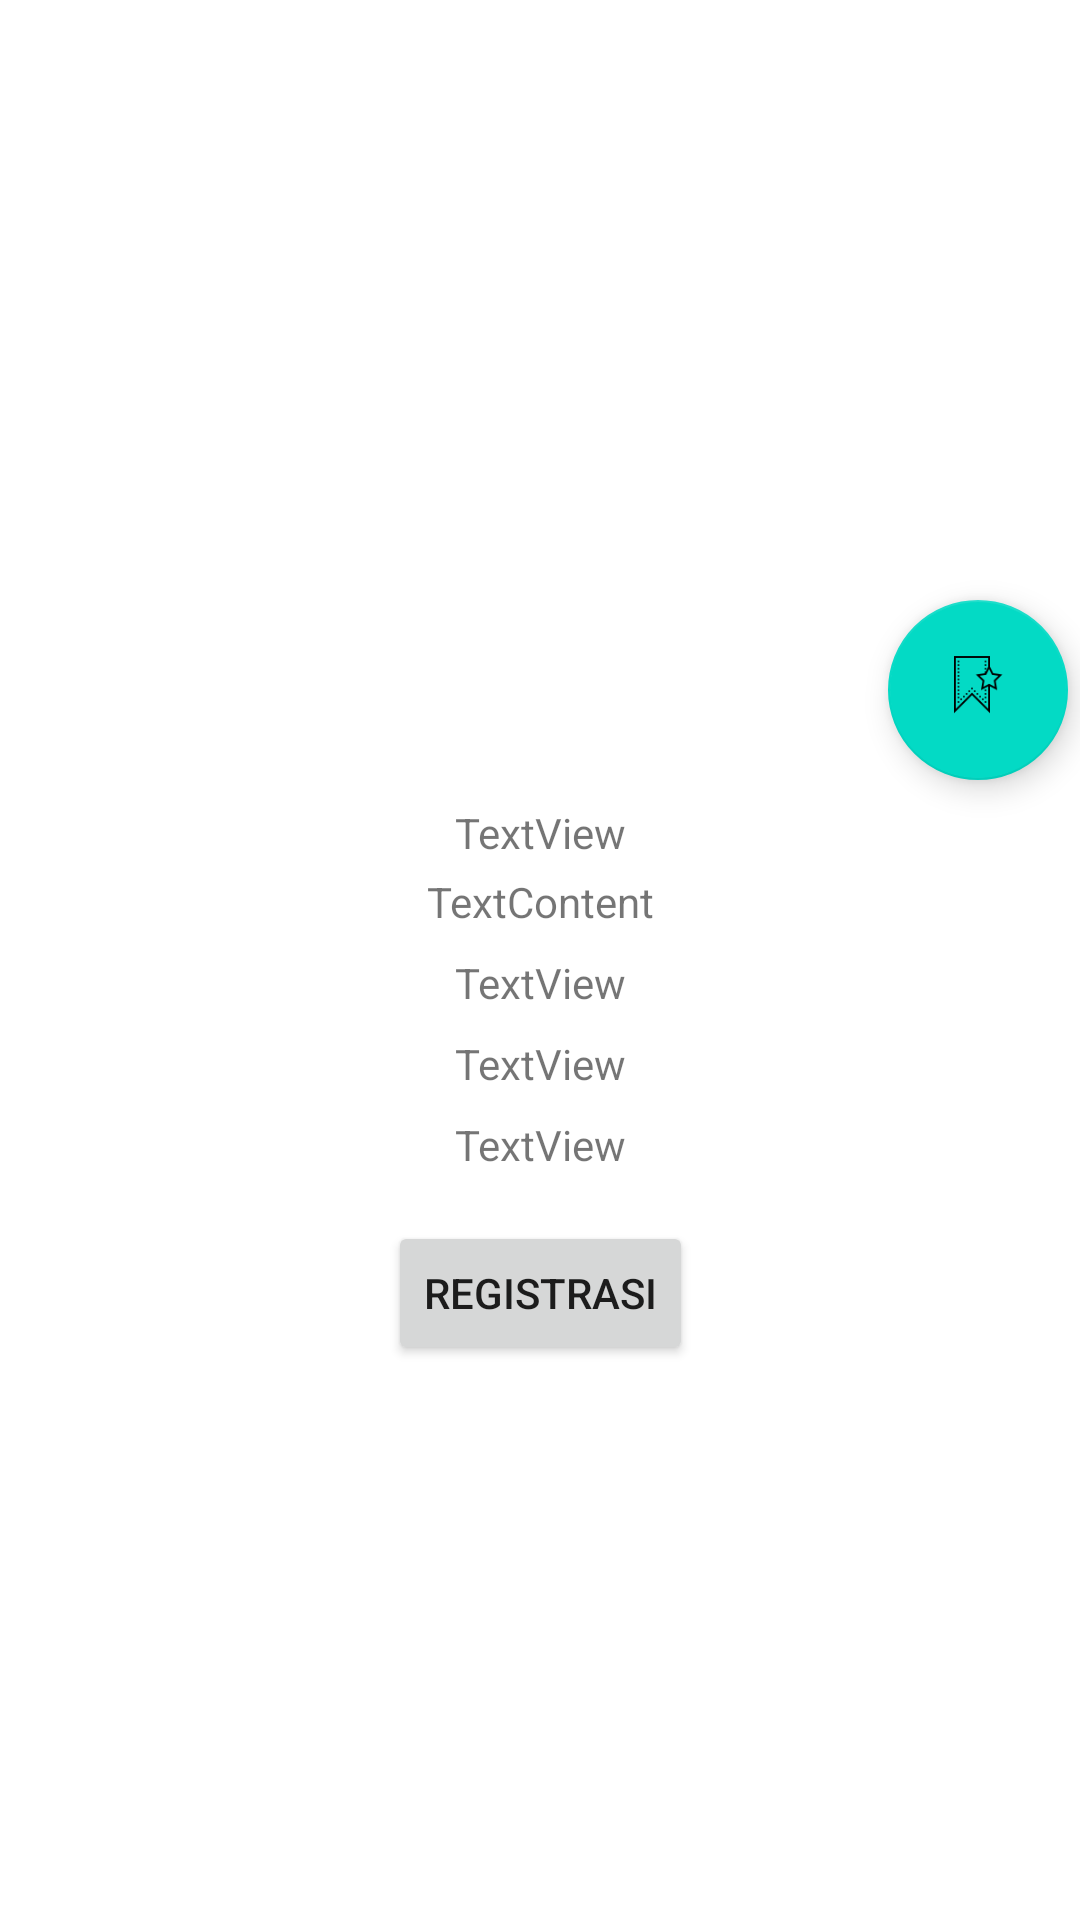

Screen size 1080 × 1920. Icon name, then its center in pixels as point (x, y):
Fav: point (978, 690)
